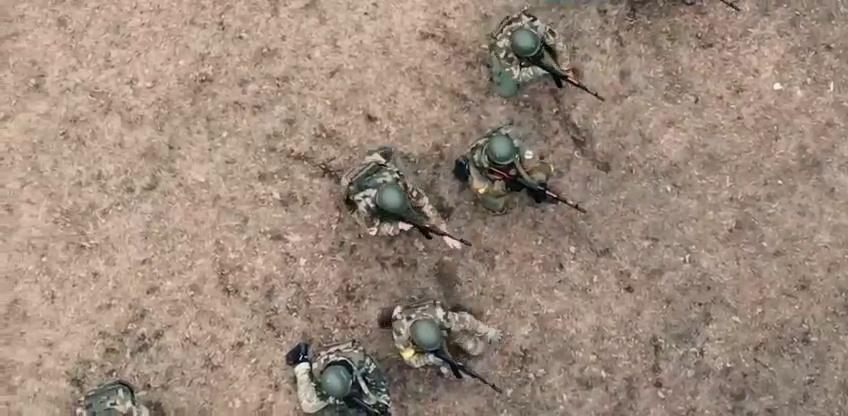person: (339, 146, 475, 252), (486, 6, 609, 103), (458, 125, 590, 215), (388, 297, 508, 395), (282, 339, 392, 416)
